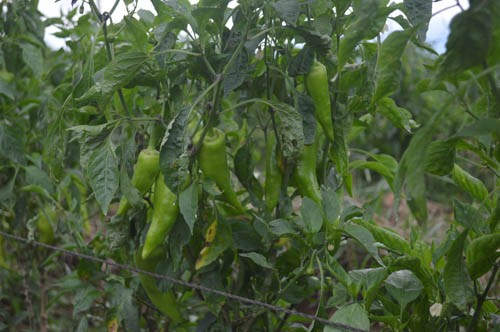ChiliPepper: (194, 135, 243, 209), (115, 145, 159, 219), (142, 179, 182, 259), (291, 142, 331, 206), (308, 64, 340, 137), (259, 133, 286, 211)
